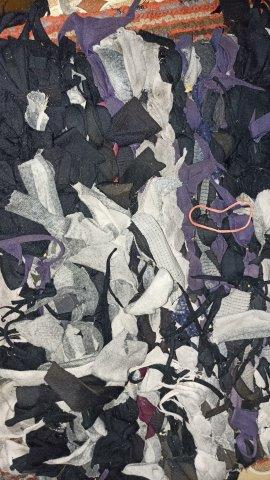karet: (188, 201, 253, 232)
